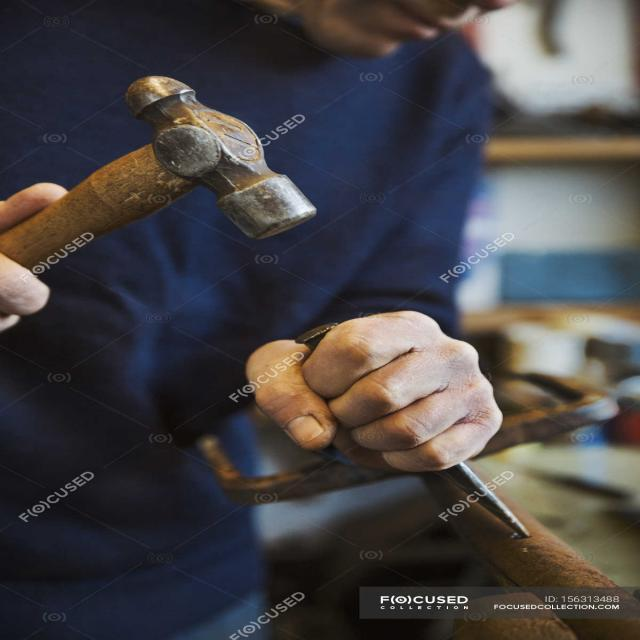hammer: (0, 56, 321, 301)
